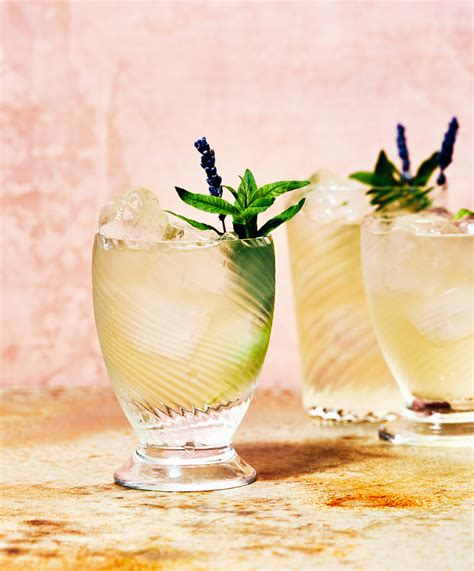alcohol: (87, 142, 286, 495), (297, 158, 431, 431), (369, 112, 474, 430)
